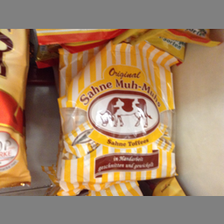candy: (58, 50, 178, 192)
